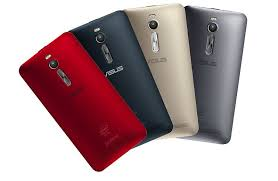asus: (11, 30, 149, 172), (177, 2, 247, 147)
